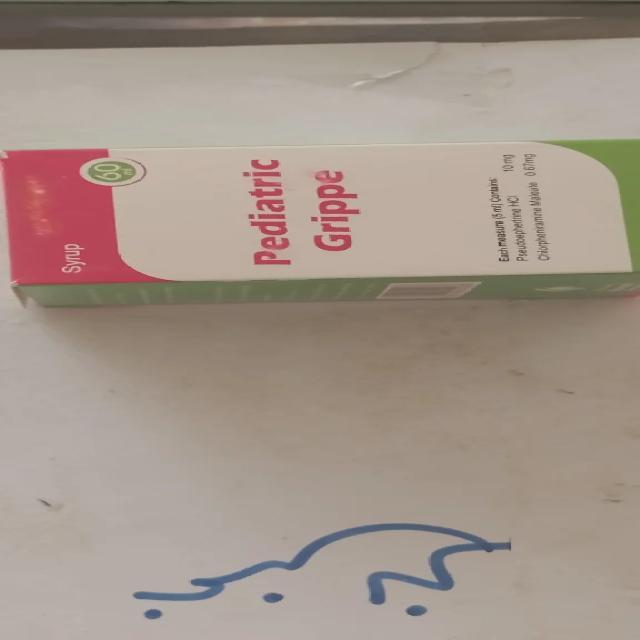drug-name: (236, 152, 362, 272)
